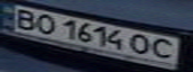1: (54, 16, 78, 39), (90, 24, 109, 48)
4: (106, 27, 127, 51)
6: (75, 20, 93, 44)
B: (9, 7, 42, 30)
C: (148, 36, 181, 61)
O: (127, 32, 157, 56), (30, 11, 60, 35)
